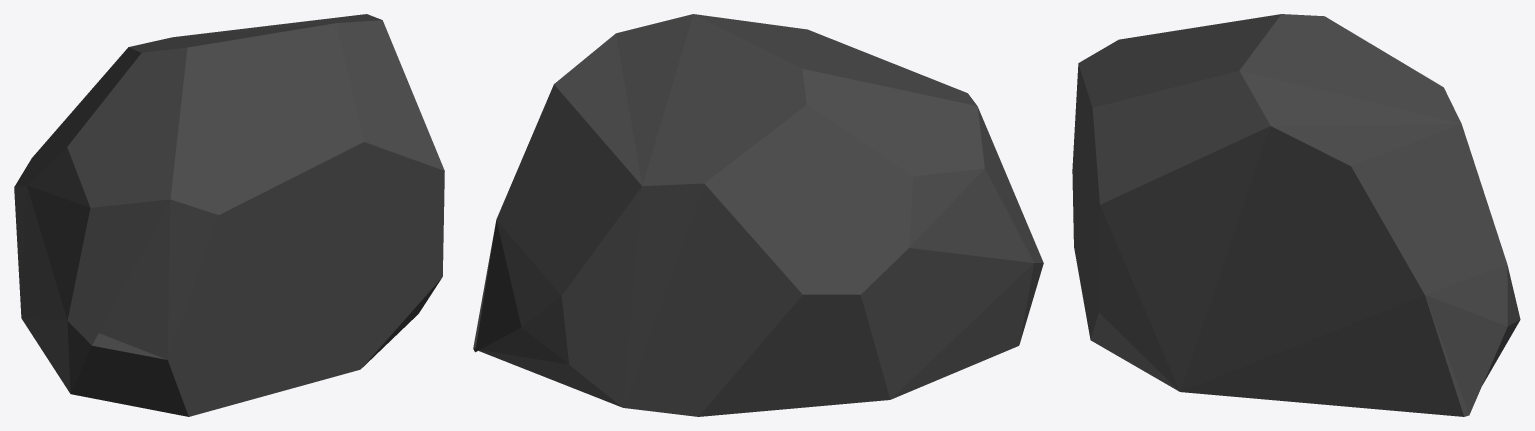
File: rock_9.FBX
The picture shows the model from 3 angles, left to right: view 1: azimuth 30°, elevation 25°; view 2: azimuth 150°, elevation 25°; view 3: azimuth 270°, elevation 25°; orthographic projection. The views are drawn at different scales.
Parts seen in each view (by area): view 1: rock_9; view 2: rock_9; view 3: rock_9.
Boxes of the visible parts, x1,y1,x2,y2 form: rock_9: (14, 14, 444, 416); rock_9: (473, 14, 1043, 416); rock_9: (1072, 14, 1520, 416).
Bounding box in the file's own units: 1.12 × 0.7308 × 1.01.
Materials: 1 (1 with a texture image).
